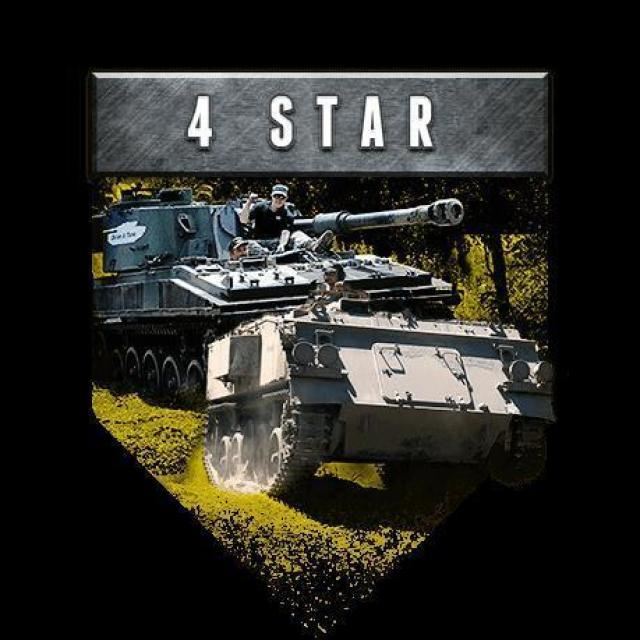MIL_MBT: (208, 230, 551, 484), (93, 190, 220, 410)
